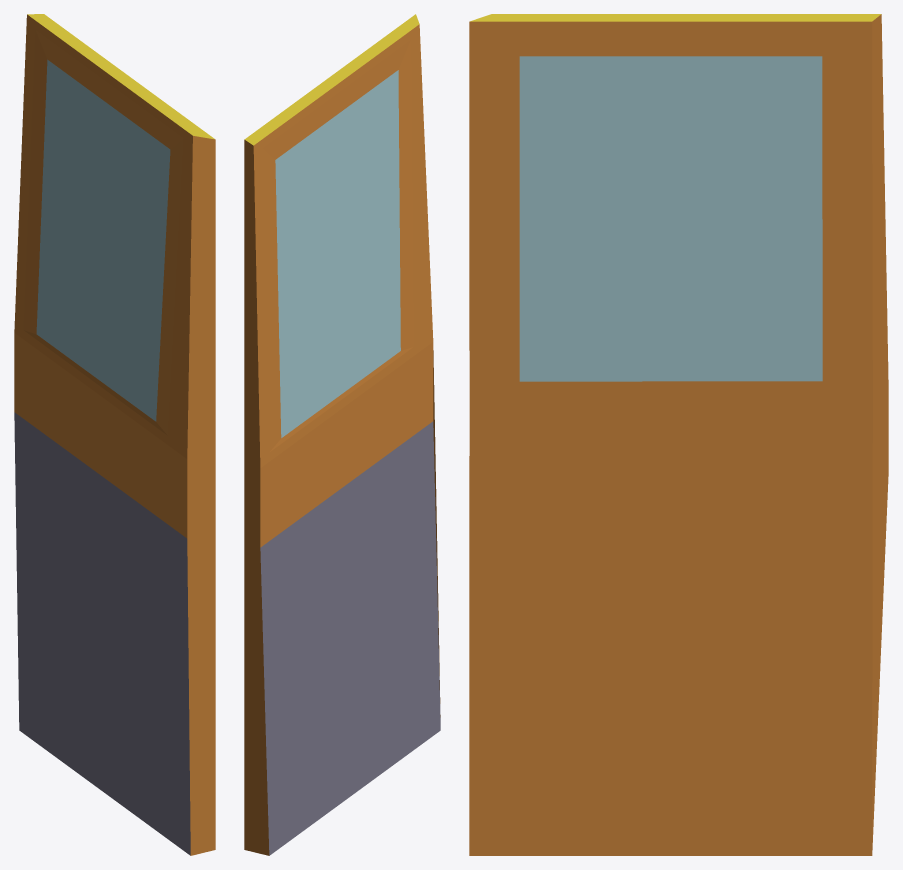
The model's file is bus_right_window_three.fbx.
3 renders of one model, left to right at view 1: azimuth 30°, elevation 25°; view 2: azimuth 150°, elevation 25°; view 3: azimuth 270°, elevation 25°, orthographic. The views are drawn at different scales.
Parts seen in each view (by area): view 1: Cube.054; view 2: Cube.054; view 3: Cube.054.
Boxes of the visible parts, x1=… form: Cube.054: x1=14, y1=14, x2=215, y2=855; Cube.054: x1=244, y1=14, x2=440, y2=855; Cube.054: x1=469, y1=14, x2=888, y2=855.
Bounding box in the file's own units: 5.71 × 156 × 70.98.
